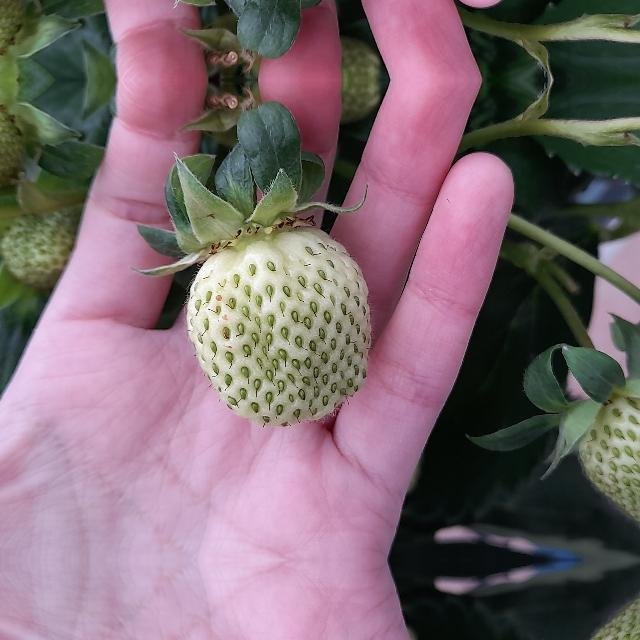Health_25: (186, 228, 370, 426), (574, 381, 640, 514), (574, 606, 639, 640)
